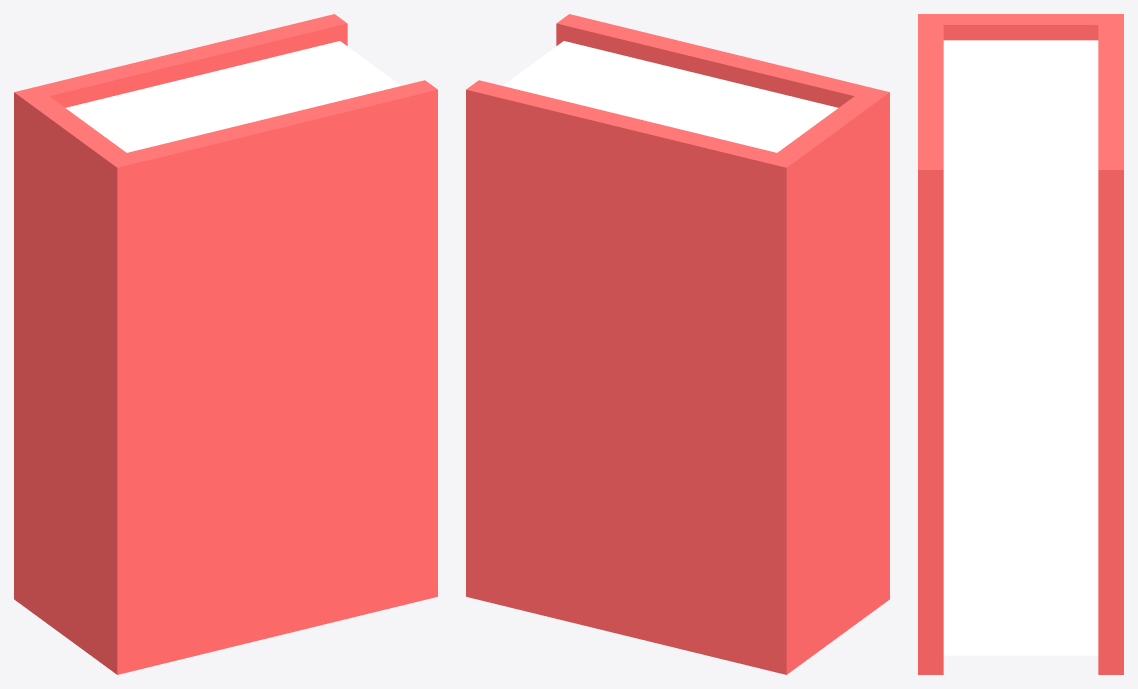
Rendered from livro.glb.
3 renders of one model, left to right at view 1: azimuth 30°, elevation 25°; view 2: azimuth 150°, elevation 25°; view 3: azimuth 270°, elevation 25°, orthographic.
Visible parts, largest first — view 1: livro; view 2: livro; view 3: livro.
Boxes of the visible parts, bbox=[...] form: livro: bbox=[14, 14, 437, 674]; livro: bbox=[466, 14, 889, 674]; livro: bbox=[918, 14, 1123, 674].
Size of the model in its own units: 0.86 by 1.3 by 0.48.
